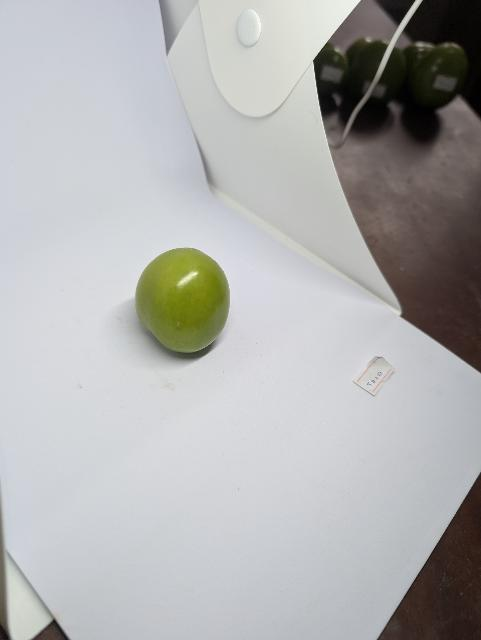green: (132, 244, 233, 358)
